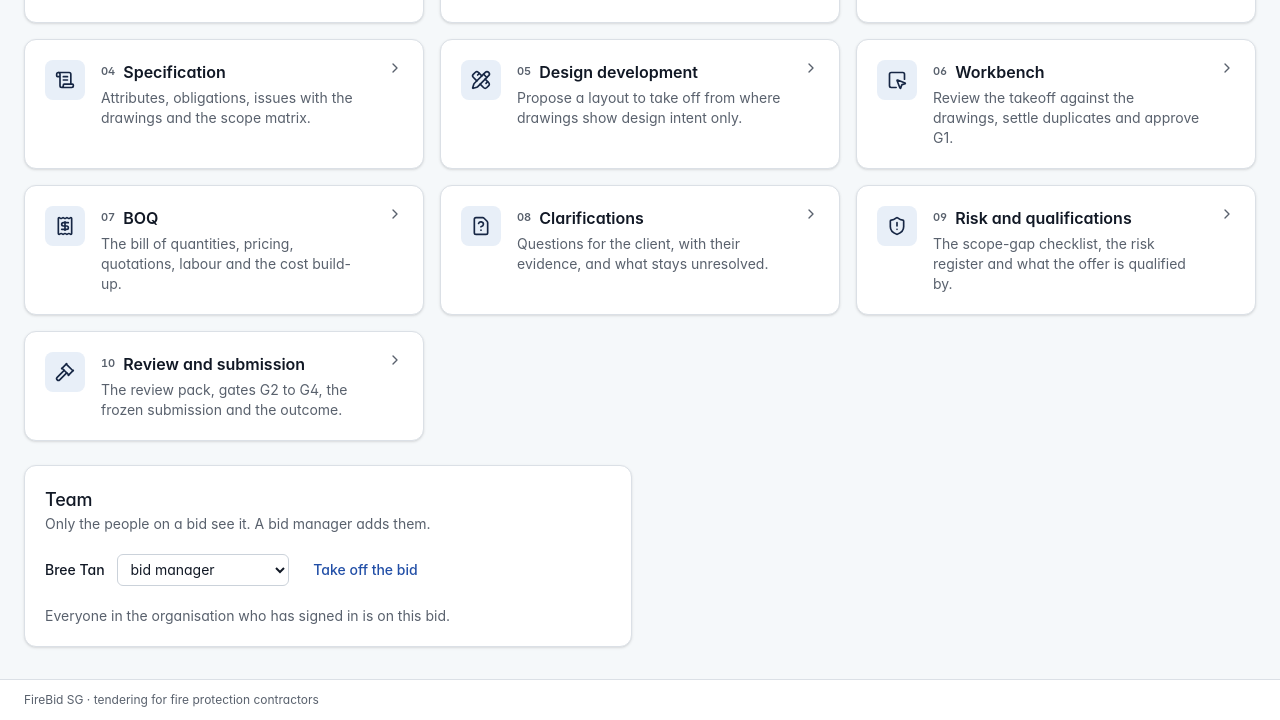
Scenario: the team of a bid › says why the last bid manager cannot be taken off
(page scrolled)
Click the button with aria-label "Take Bree Tan off the bid" at (366, 570), box [301,554,430,586]
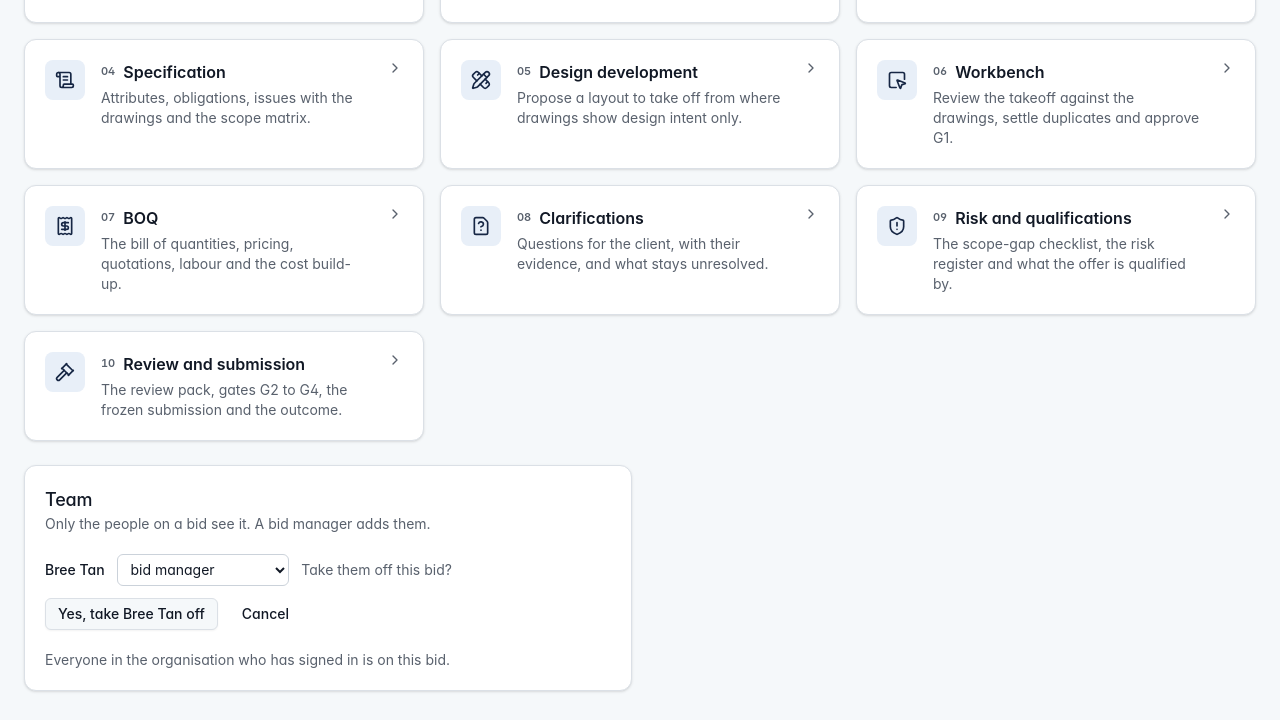
Click the button "Yes, take Bree Tan off" at (131, 614), box [45,598,218,630]
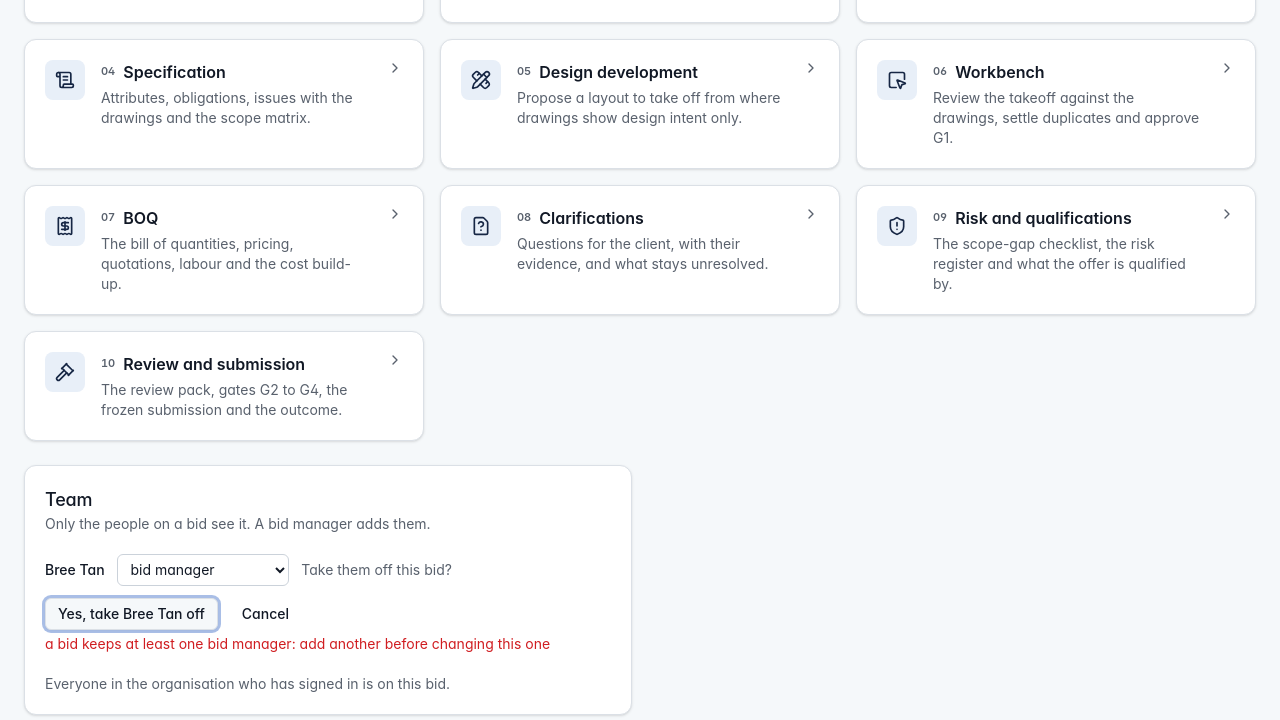
Expected: the message shows "a bid keeps at least one bid manager", [45,634,550,652]
